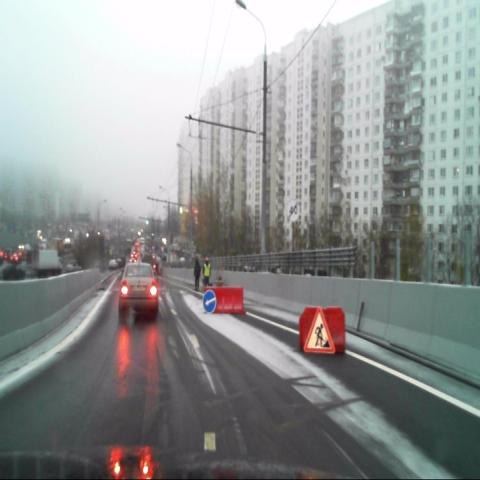3_25: (287, 198, 299, 222)
